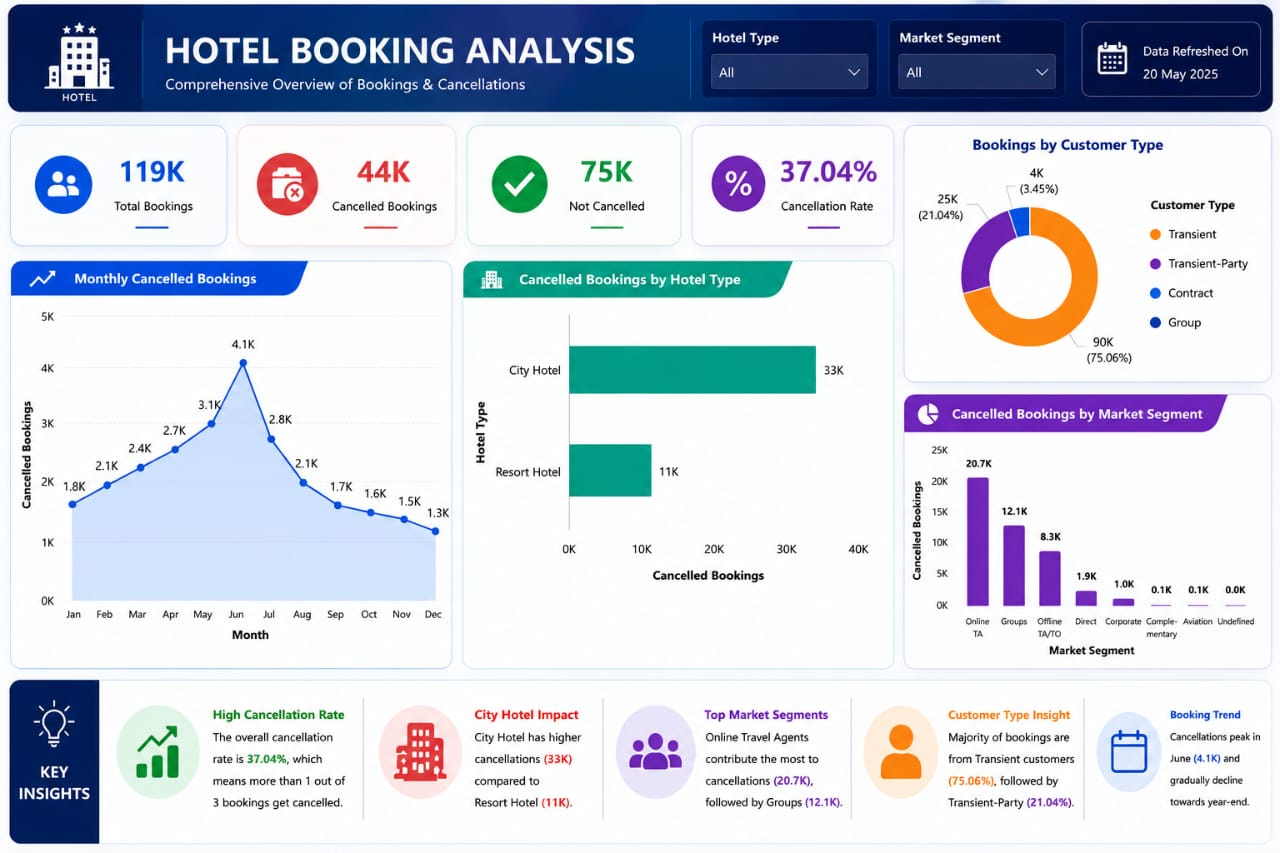

The page's visual inventory and layout, read from the dashboard file:
{"tool":"powerbi","page":{"name":"Naman ( Infotact Solutions )","canvas":[1280,720],"ordinal":0},"visuals":[{"type":"card","fields":{"Values":["hotel_bookings.Total Bookings"]},"box":[0,74.1,161.9,107],"z":1000},{"type":"card","fields":{"Values":["hotel_bookings.Cancelled Bookings"]},"box":[161.9,74.1,185.2,107],"z":2000},{"type":"card","fields":{"Values":["hotel_bookings.Not Cancelled"]},"box":[347.2,74.1,182.5,107],"z":3000},{"type":"card","fields":{"Values":["hotel_bookings.Cancellation Rate"]},"box":[529.7,74.1,212.7,107],"z":4000},{"type":"lineChart","title":"Monthly Cancelled Bookings","fields":{"Category":["hotel_bookings.arrival_date_month"],"Y":["hotel_bookings.Cancelled Bookings"]},"box":[9.5,188.2,304.9,532],"z":5000},{"type":"barChart","title":"Cancelled Bookings by Hotel Type","fields":{"Y":["hotel_bookings.Cancelled Bookings"],"Category":["hotel_bookings.hotel"]},"box":[314.4,188.2,427.9,470],"z":6000},{"type":"columnChart","title":"Cancelled Bookings by Market Segment","fields":{"Category":["hotel_bookings.market_segment"],"Y":["hotel_bookings.Cancelled Bookings"]},"box":[742.3,324.9,538.3,395.3],"z":7000},{"type":"donutChart","title":"Bookings by Customer type","fields":{"Category":["hotel_bookings.customer_type"],"Y":["hotel_bookings.Total Bookings"]},"box":[742.3,75.7,372.2,249.2],"z":8000},{"type":"textbox","box":[28.8,0,1232.3,74.1],"z":9000},{"type":"slicer","fields":{"Values":["hotel_bookings.hotel"]},"box":[1125,0,135.6,88.3],"z":10000},{"type":"slicer","fields":{"Values":["hotel_bookings.arrival_date_day_of_month"]},"box":[314.4,658.2,427.9,62],"z":11000},{"type":"slicer","fields":{"Values":["hotel_bookings.market_segment"]},"box":[1125,103,135.6,221.8],"z":12000}]}

Visuals, with their boxes on the page's 1280x720 design canvas (x1, y1, x2, y2). These are canvas units, not pixel positions in the 1280x853 screenshot, which may show the page scaled, cropped or inside an application window:
card - hotel_bookings.Total Bookings: {"x1": 0, "y1": 74, "x2": 162, "y2": 181}
card - hotel_bookings.Cancelled Bookings: {"x1": 162, "y1": 74, "x2": 347, "y2": 181}
card - hotel_bookings.Not Cancelled: {"x1": 347, "y1": 74, "x2": 530, "y2": 181}
card - hotel_bookings.Cancellation Rate: {"x1": 530, "y1": 74, "x2": 742, "y2": 181}
"Monthly Cancelled Bookings" lineChart: {"x1": 10, "y1": 188, "x2": 314, "y2": 720}
"Cancelled Bookings by Hotel Type" barChart: {"x1": 314, "y1": 188, "x2": 742, "y2": 658}
"Cancelled Bookings by Market Segment" columnChart: {"x1": 742, "y1": 325, "x2": 1281, "y2": 720}
"Bookings by Customer type" donutChart: {"x1": 742, "y1": 76, "x2": 1114, "y2": 325}
textbox: {"x1": 29, "y1": 0, "x2": 1261, "y2": 74}
slicer - hotel_bookings.hotel: {"x1": 1125, "y1": 0, "x2": 1261, "y2": 88}
slicer - hotel_bookings.arrival_date_day_of_month: {"x1": 314, "y1": 658, "x2": 742, "y2": 720}
slicer - hotel_bookings.market_segment: {"x1": 1125, "y1": 103, "x2": 1261, "y2": 325}
